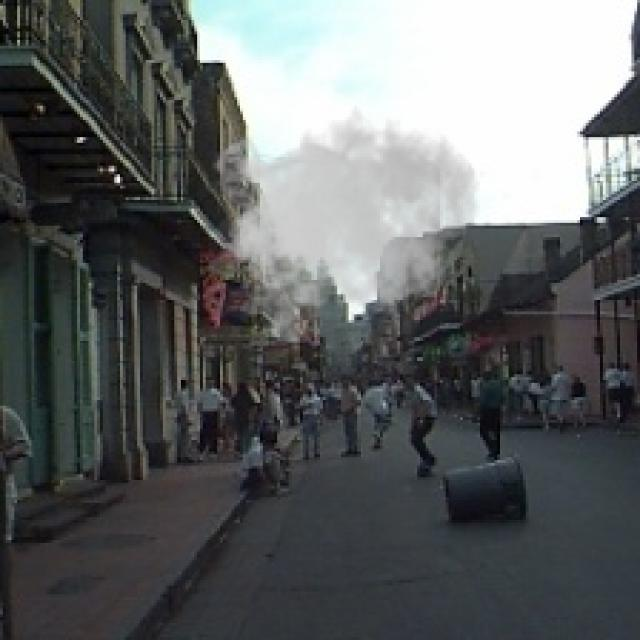Smoke: (208, 94, 481, 343)
